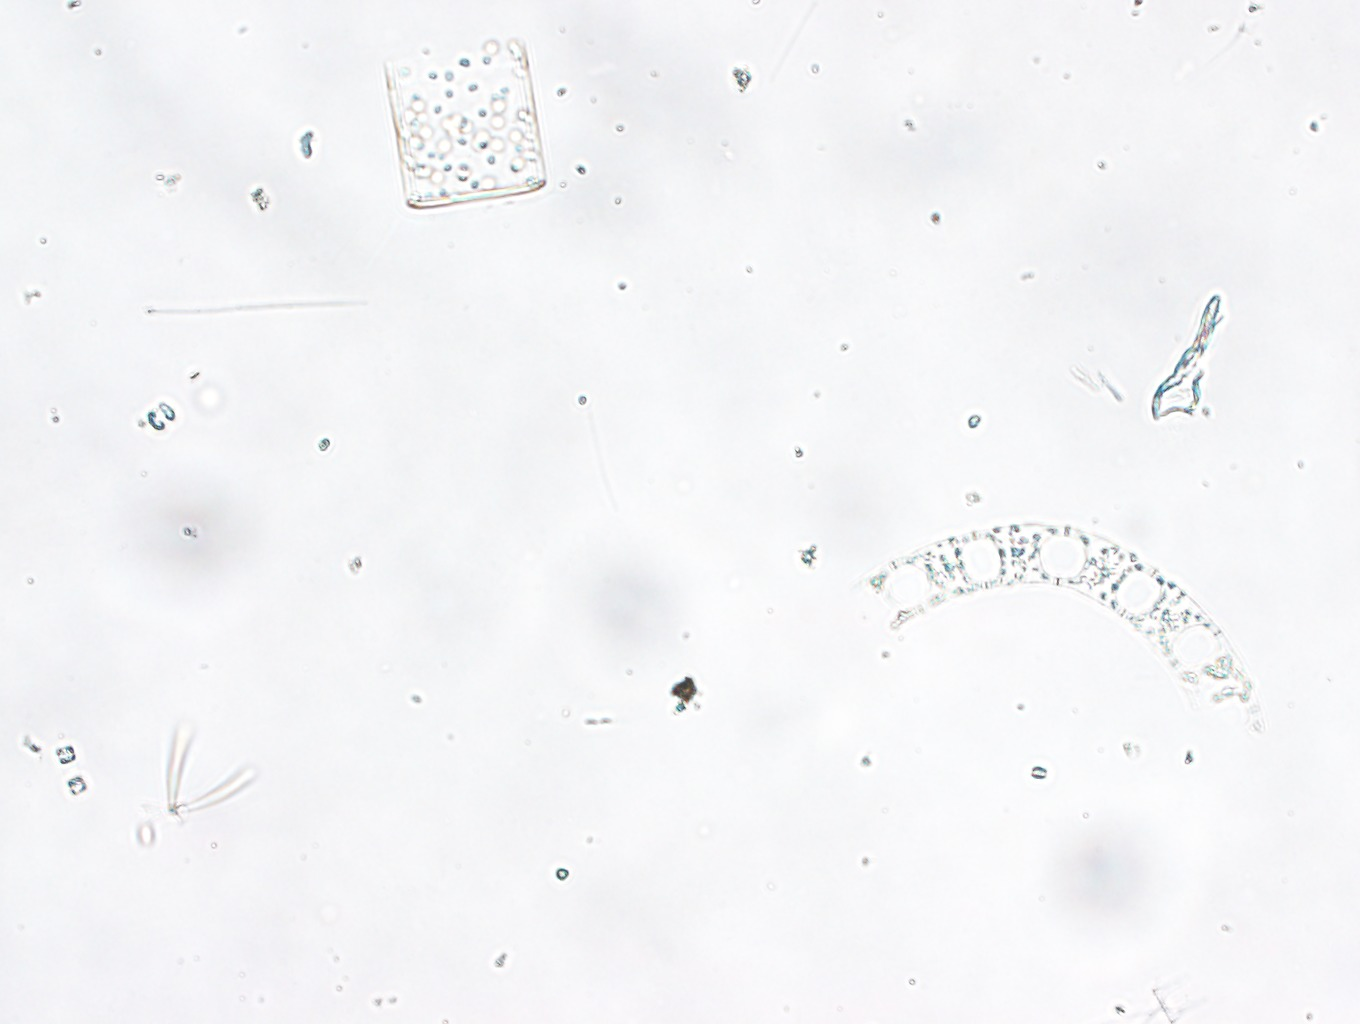eucampia: (867, 525, 1252, 715)
guinardia flaccida: (383, 39, 547, 209)
